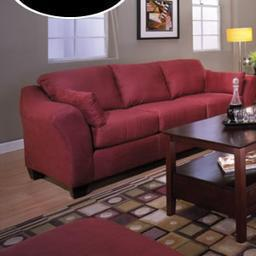Ventana: (47, 16, 111, 61), (193, 3, 221, 52)
